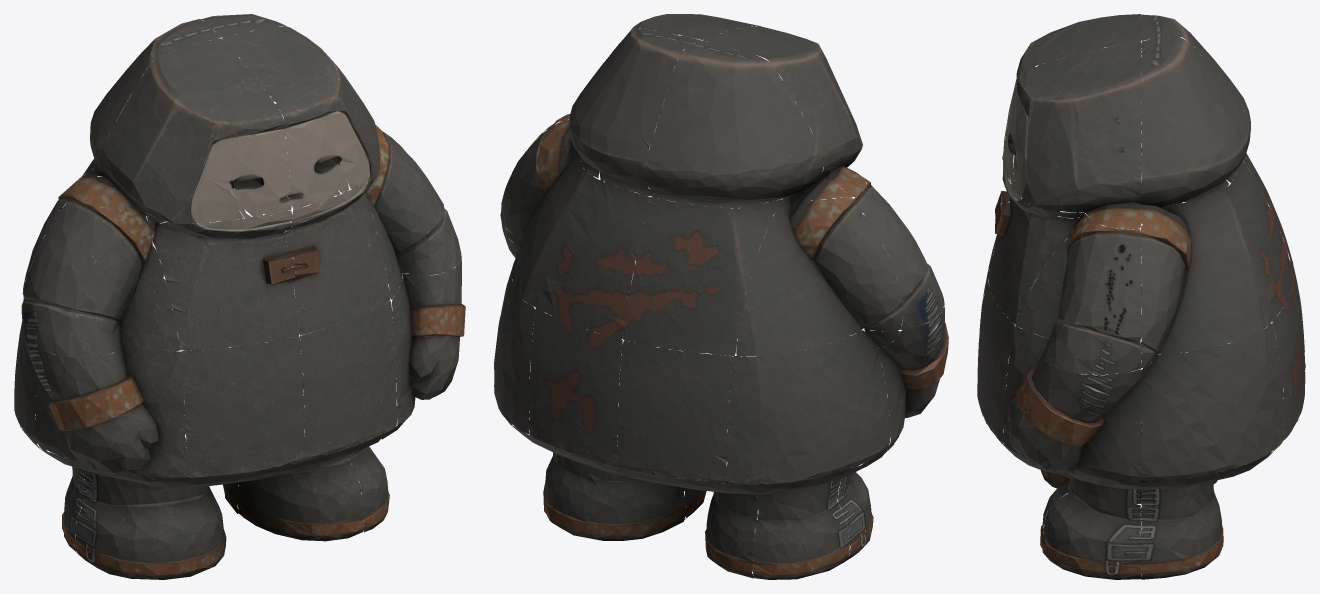
File: npc_b.glb
The picture shows the model from 3 angles, left to right: view 1: azimuth 30°, elevation 25°; view 2: azimuth 150°, elevation 25°; view 3: azimuth 270°, elevation 25°; orthographic projection. The views are drawn at different scales.
Parts seen in each view (by area): view 1: world; view 2: world; view 3: world.
Boxes of the visible parts, bbox=[...] form: world: bbox=[14, 14, 465, 579]; world: bbox=[494, 14, 948, 579]; world: bbox=[977, 14, 1305, 579].
Bounding box in the file's own units: 0.9022 × 1 × 0.6262.
Materials: 1 (1 with a texture image).
